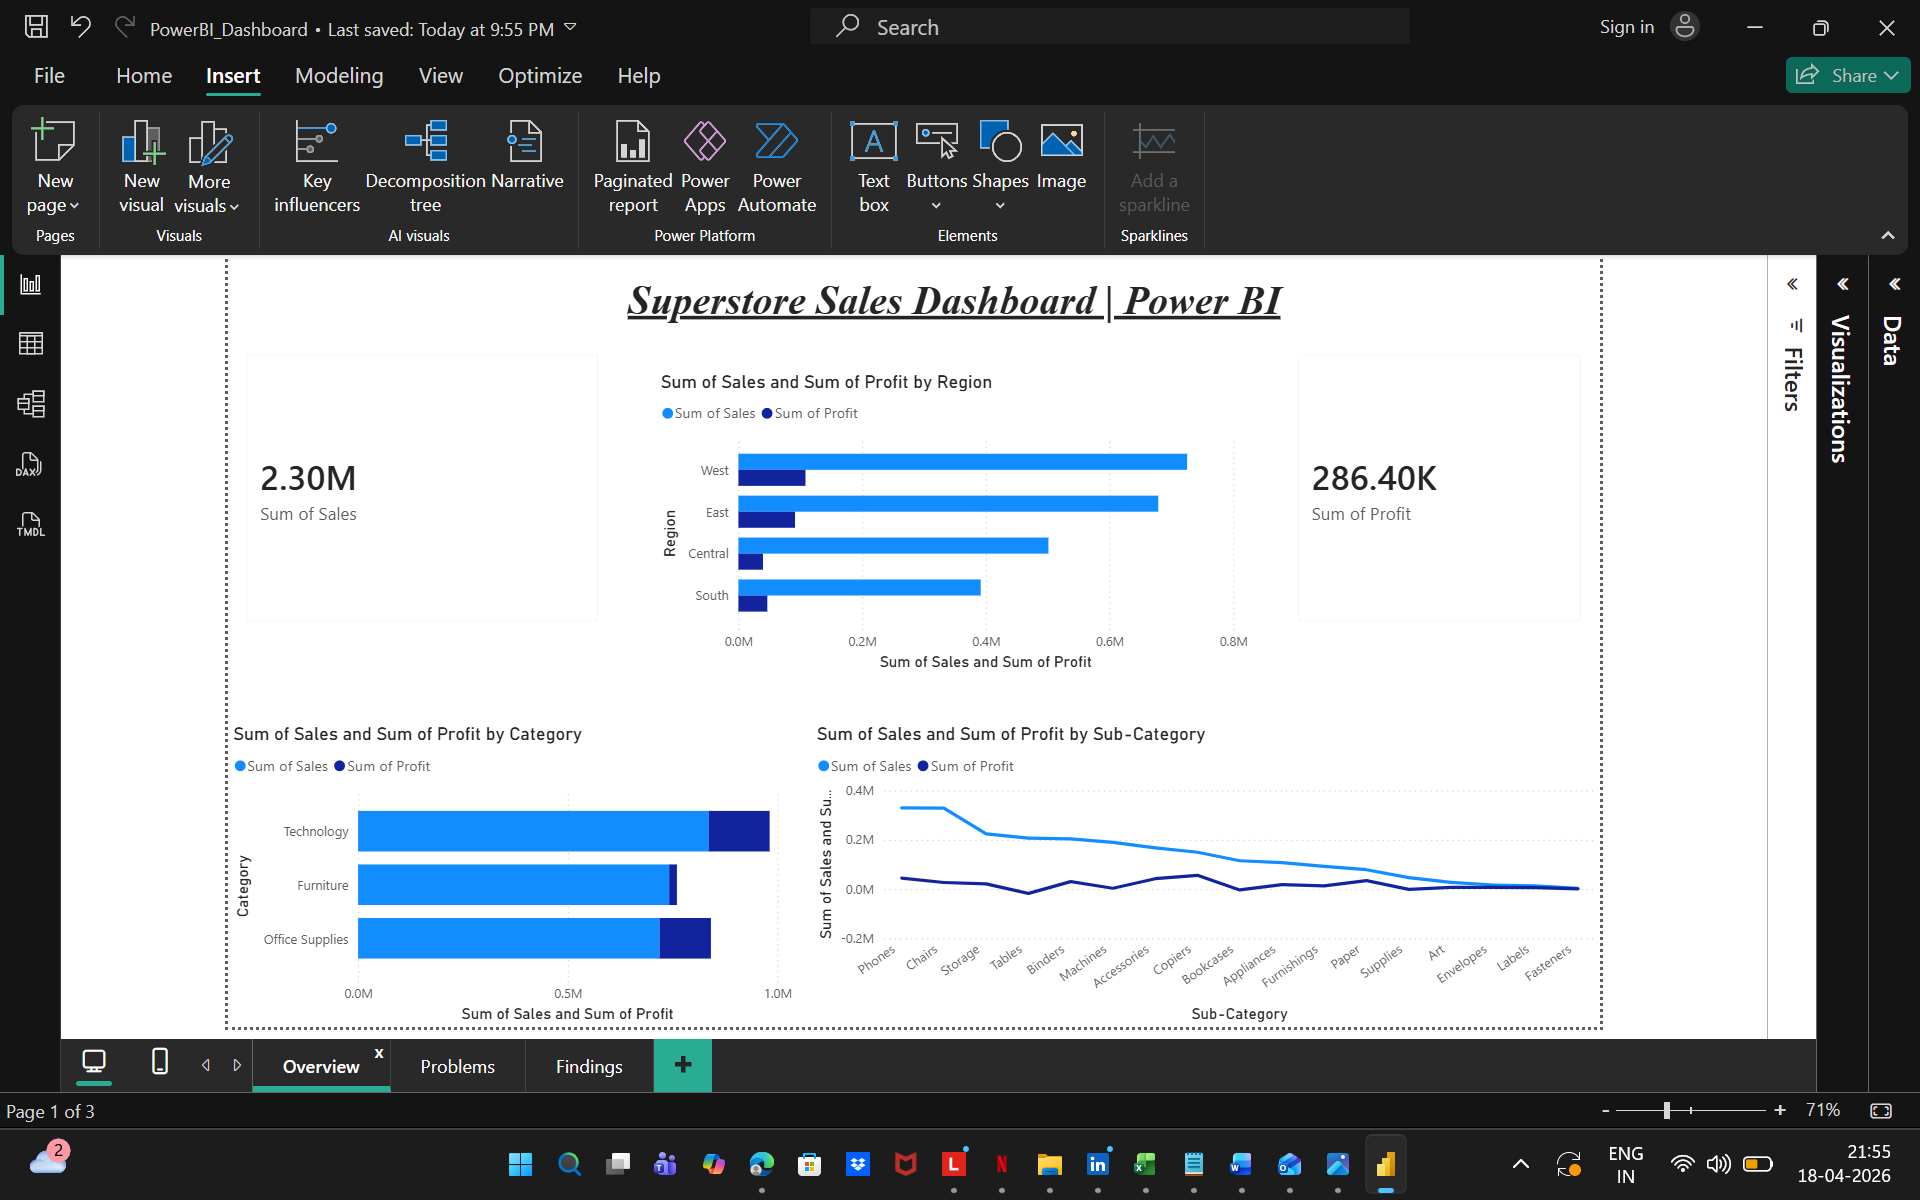

This screenshot's page, from the dashboard's own definition file:
{"tool":"powerbi","page":{"name":"Overview","canvas":[1280,720],"ordinal":0},"visuals":[{"type":"cardVisual","fields":{"Data":["Sum(Sample_ Superstore.Sales)"]},"box":[0,75.6,362.8,283.5],"z":0},{"type":"textbox","box":[309.9,15.1,733.2,60.5],"z":1000},{"type":"cardVisual","fields":{"Data":["Sum(Sample_ Superstore.Profit)"]},"box":[980.8,75.6,298.6,283.5],"z":2000},{"type":"barChart","fields":{"Y":["Sum(Sample_ Superstore.Sales)","Sum(Sample_ Superstore.Profit)"],"Category":["Sample_ Superstore.Category"]},"box":[0,436.5,531,283.5],"z":3000},{"type":"clusteredBarChart","fields":{"Category":["Sample_ Superstore.Region"],"Y":["Sum(Sample_ Superstore.Sales)","Sum(Sample_ Superstore.Profit)"]},"box":[398.7,107.7,557.5,283.5],"z":4000},{"type":"lineChart","fields":{"Y":["Sum(Sample_ Superstore.Sales)","Sum(Sample_ Superstore.Profit)"],"Category":["Sample_ Superstore.Sub-Category"]},"box":[544.3,436.5,735.1,283.5],"z":5000}]}

Visuals, with their boxes on the page's 1280x720 design canvas (x1, y1, x2, y2). These are canvas units, not pixel positions in the 1920x1200 screenshot, which may show the page scaled, cropped or inside an application window:
cardVisual - Sum(Sample_ Superstore.Sales): crop(0, 76, 363, 359)
textbox: crop(310, 15, 1043, 76)
cardVisual - Sum(Sample_ Superstore.Profit): crop(981, 76, 1279, 359)
barChart - Sum(Sample_ Superstore.Sales) x Sum(Sample_ Superstore.Profit): crop(0, 436, 531, 720)
clusteredBarChart - Sample_ Superstore.Region x Sum(Sample_ Superstore.Sales): crop(399, 108, 956, 391)
lineChart - Sum(Sample_ Superstore.Sales) x Sum(Sample_ Superstore.Profit): crop(544, 436, 1279, 720)
